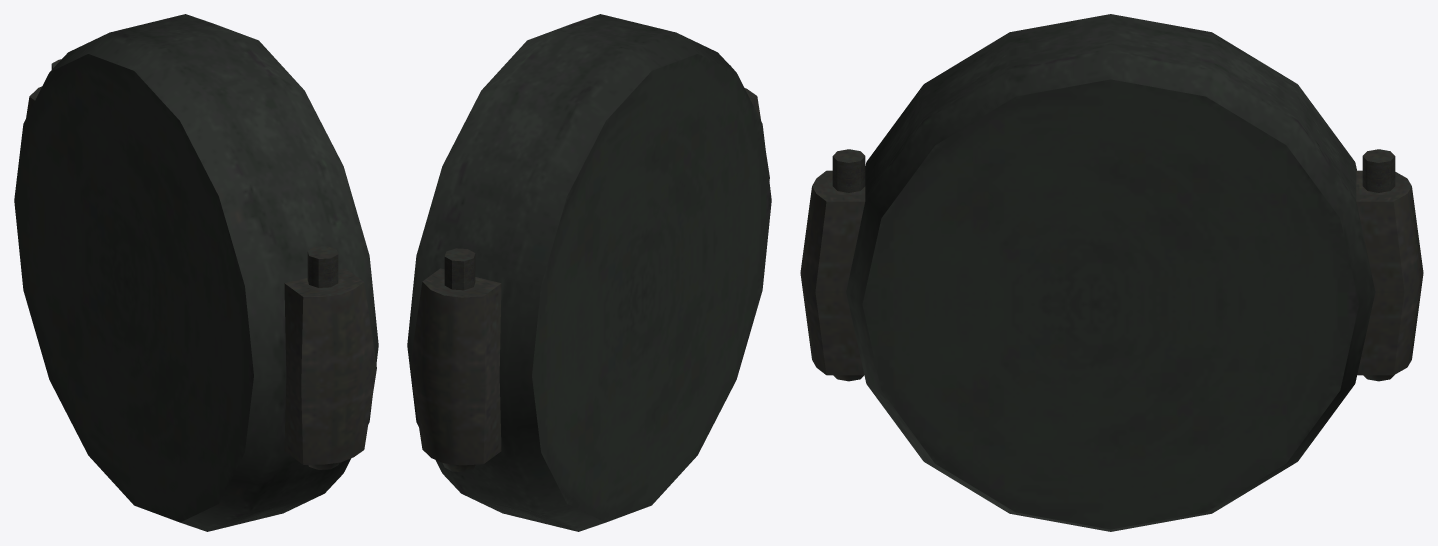
Rendered from com_pipe_coupling_metal_lod0.glb.
3 views of the same model, side by side, from view 1: azimuth 30°, elevation 25°; view 2: azimuth 150°, elevation 25°; view 3: azimuth 270°, elevation 25° (orthographic). The views are drawn at different scales.
Visible parts, largest first — view 1: surf0; view 2: surf0; view 3: surf0.
Boxes of the visible parts, bbox=[...] form: surf0: bbox=[14, 14, 378, 531]; surf0: bbox=[407, 14, 771, 531]; surf0: bbox=[800, 14, 1423, 531].
Size of the model in its own units: 5.07 by 18 by 21.19.
